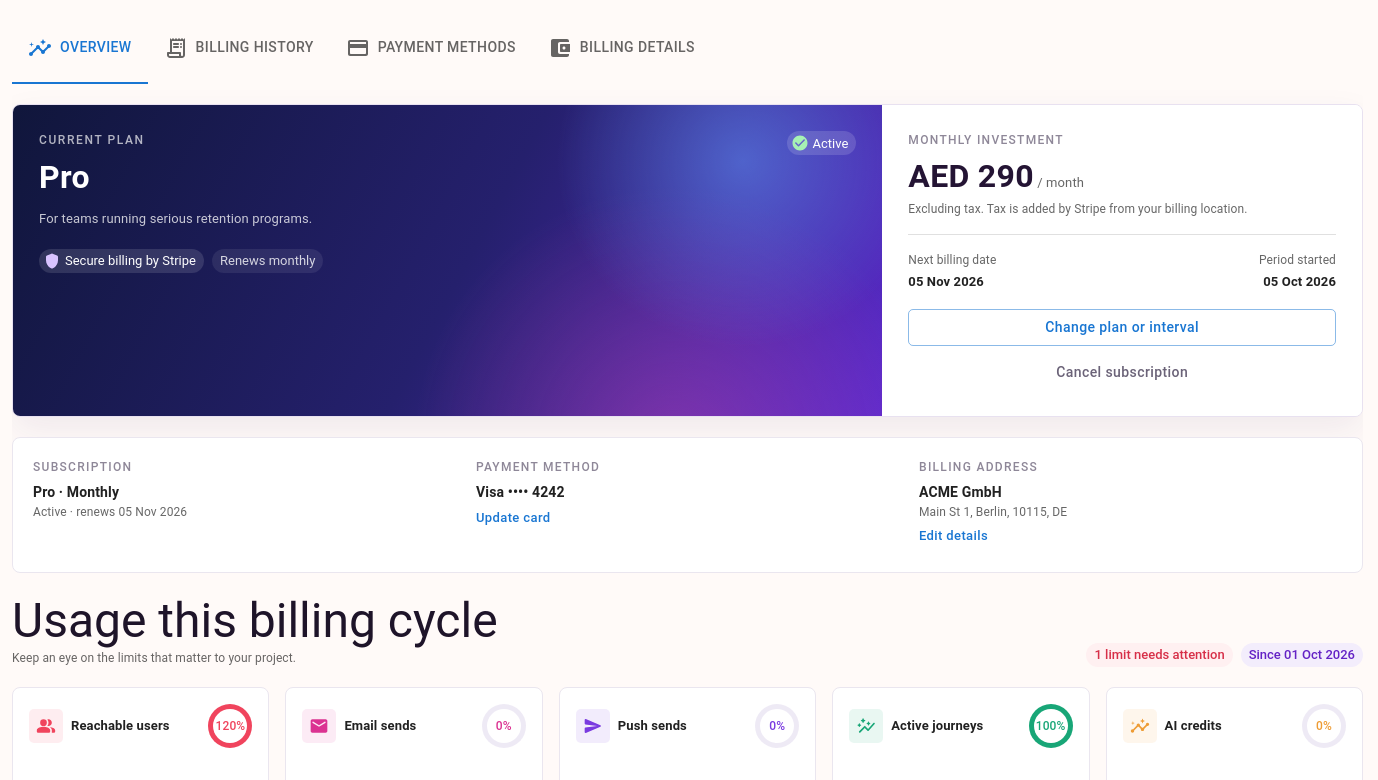
BillingSection › shows plan, card and billing address together, with in-app actions
expect the text "visa •••• 4242" is shown: met, box [476,484,565,500]
expect the text "Main St 1, Berlin, 10115, DE" is shown: met, box [919,505,1067,519]
Click the button "Edit details" at (954, 536), box [919,521,988,552]
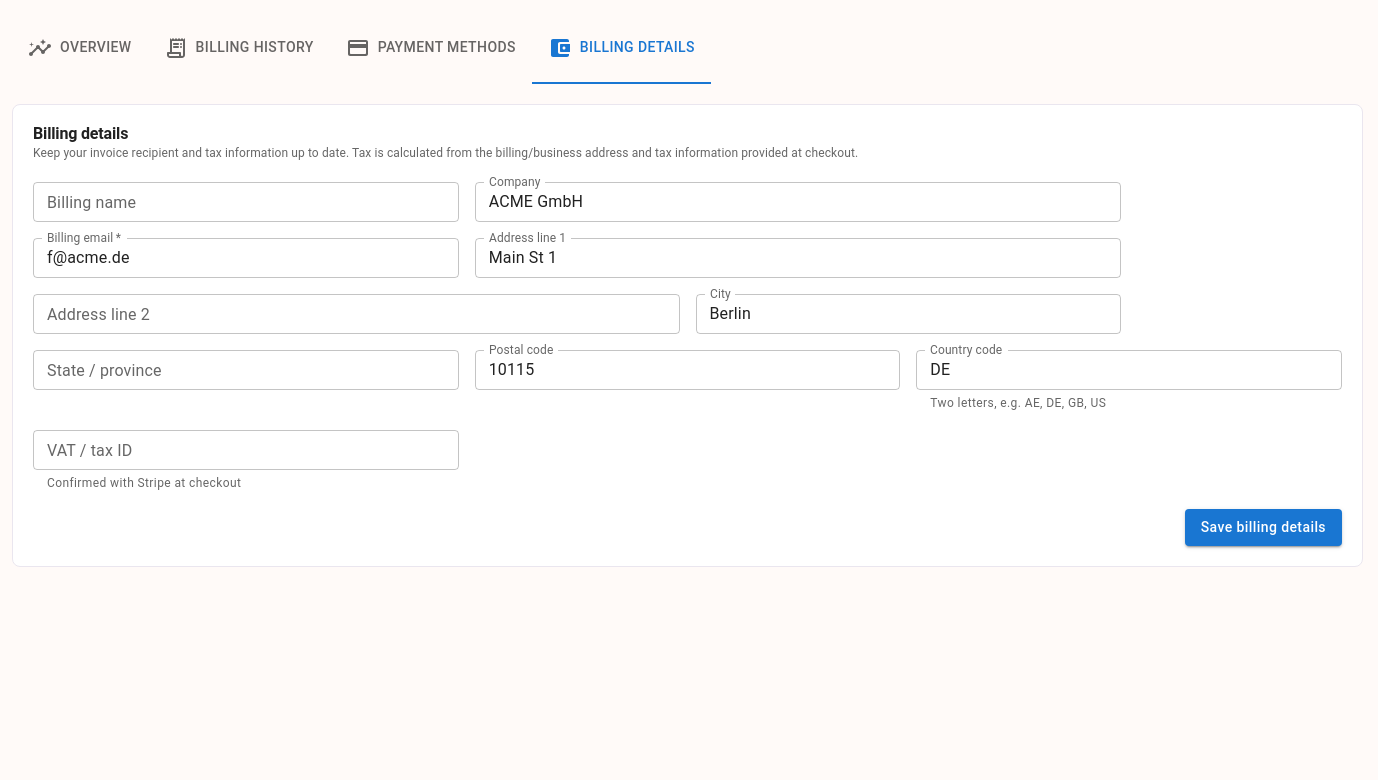
expect the field labelled "State / province" is shown: met, box [33,350,459,390]
